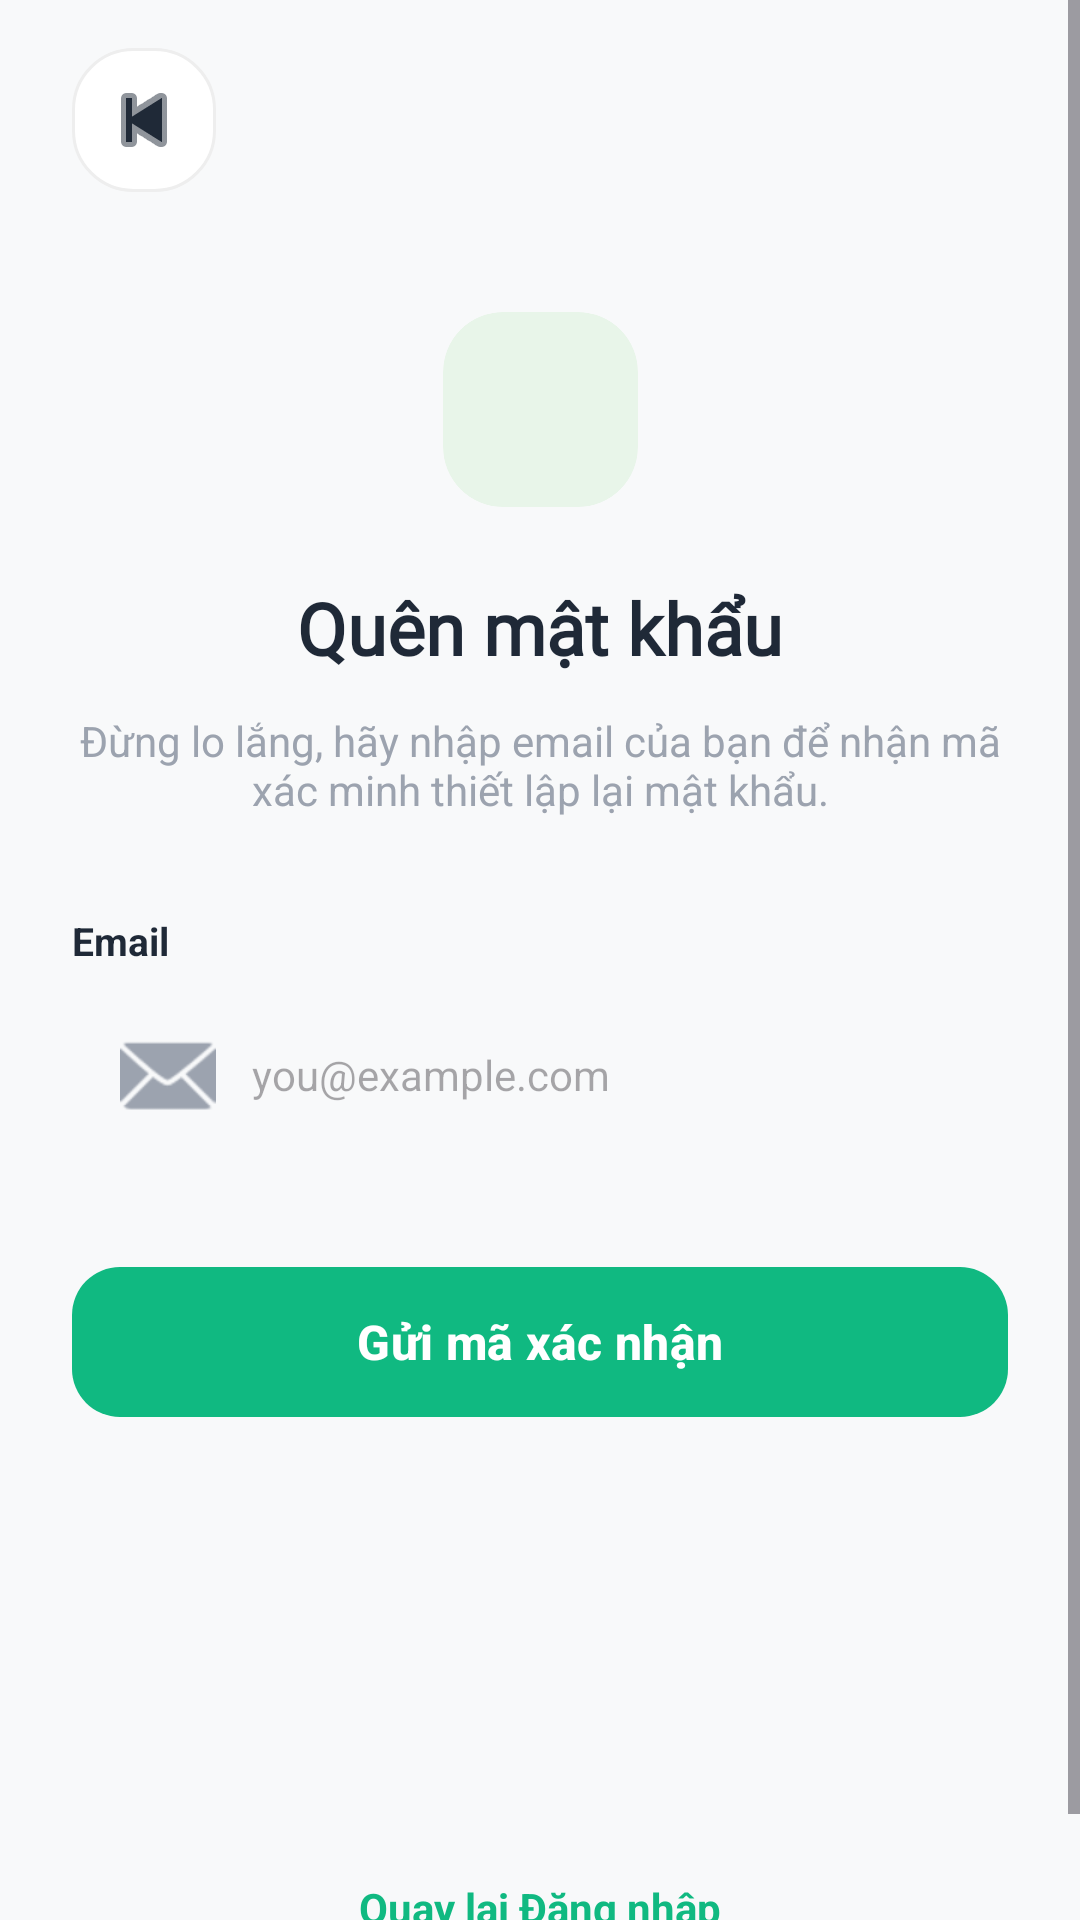

Icons on this 1080w x 1920h Android screen, each with its box as (x1, y1, x2, y2):
Quay lại: (121, 93, 167, 147)
